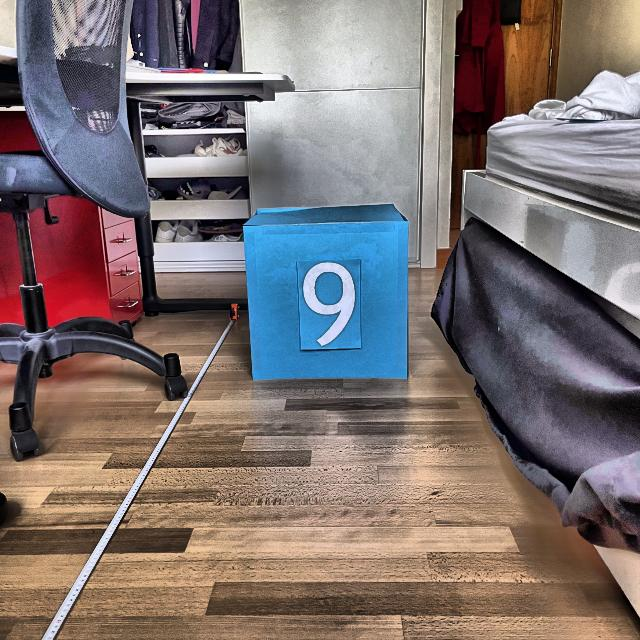blue box: (239, 200, 412, 383)
nine: (300, 258, 358, 348)
